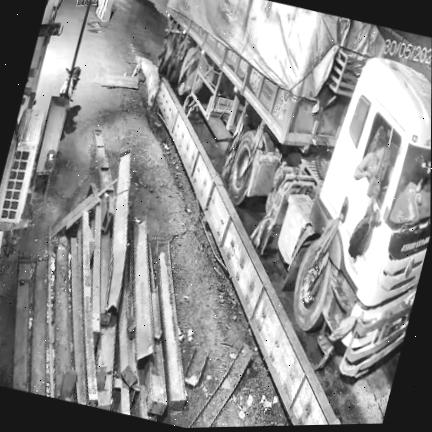tyre: (294, 242, 330, 331), (229, 131, 254, 205)
